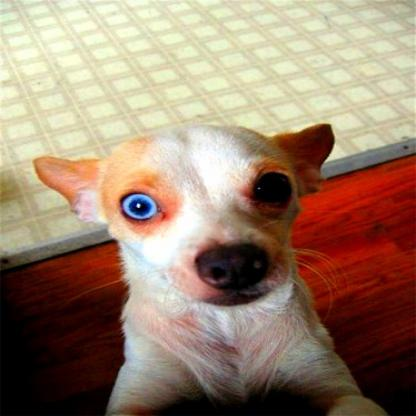dog: (31, 123, 384, 415)
